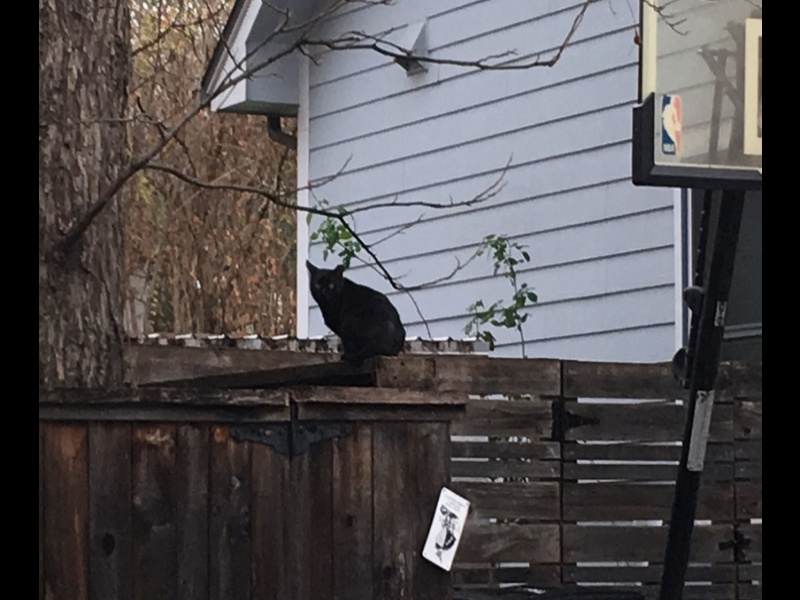cat: (300, 258, 410, 364)
